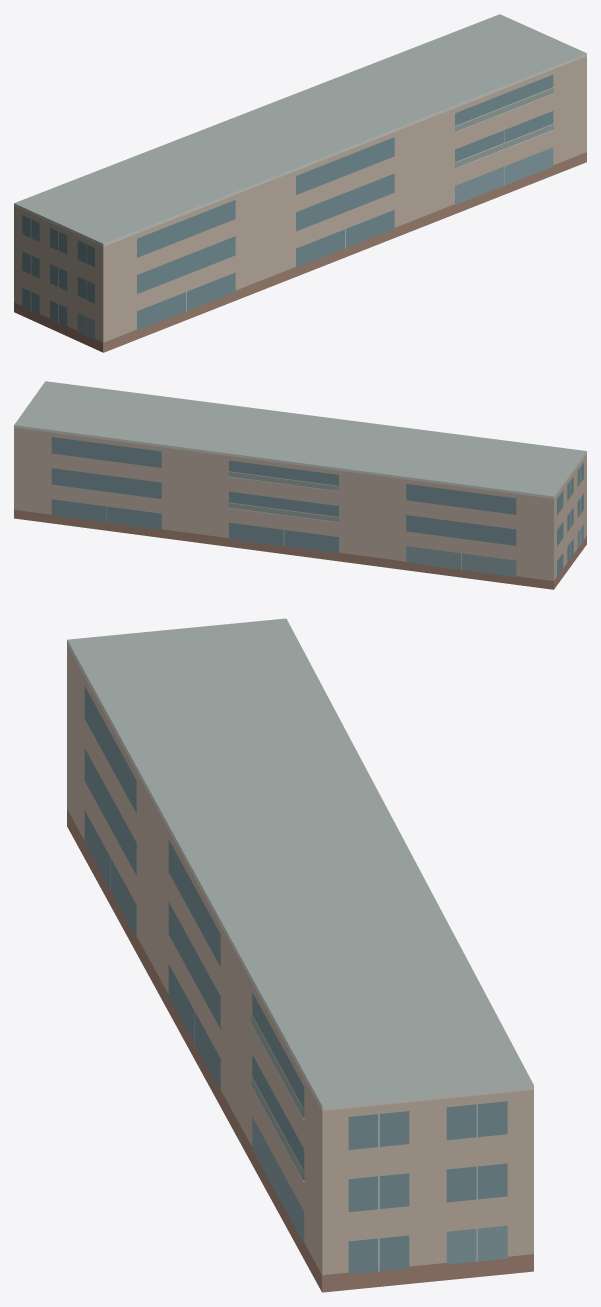
File: survey-upis-32713628.glb
3 views of the same model, one above another, from view 1: azimuth 30°, elevation 25°; view 2: azimuth 150°, elevation 25°; view 3: azimuth 270°, elevation 25° (orthographic). The views are drawn at different scales.
Visible parts, largest first — view 1: survey-upis-32713628.tmp; view 2: survey-upis-32713628.tmp; view 3: survey-upis-32713628.tmp.
Part boxes in pixels (<box>): survey-upis-32713628.tmp: <box>14,14,586,352</box>; survey-upis-32713628.tmp: <box>14,381,586,589</box>; survey-upis-32713628.tmp: <box>67,618,533,1292</box>.
Size of the model in its own units: 51.27 by 9.15 by 20.75.
